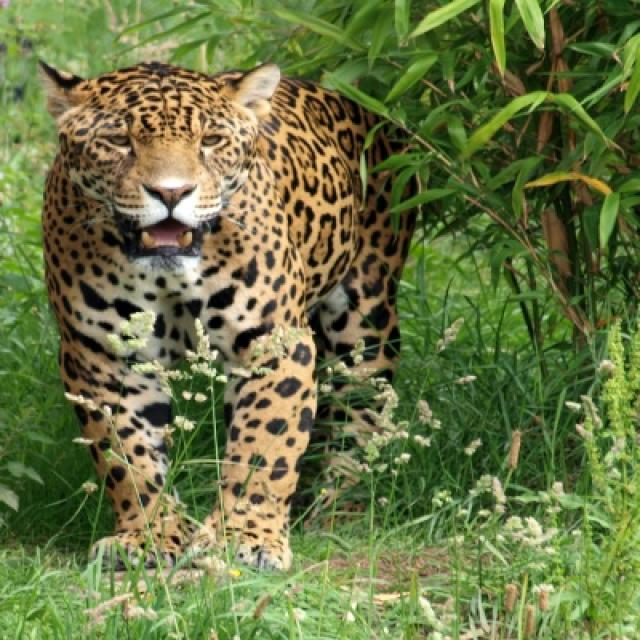Jaguar: (38, 62, 432, 576)
